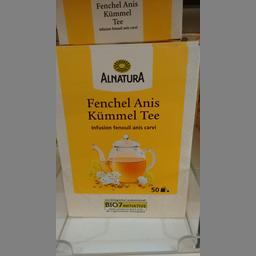tea: (54, 40, 196, 215)
